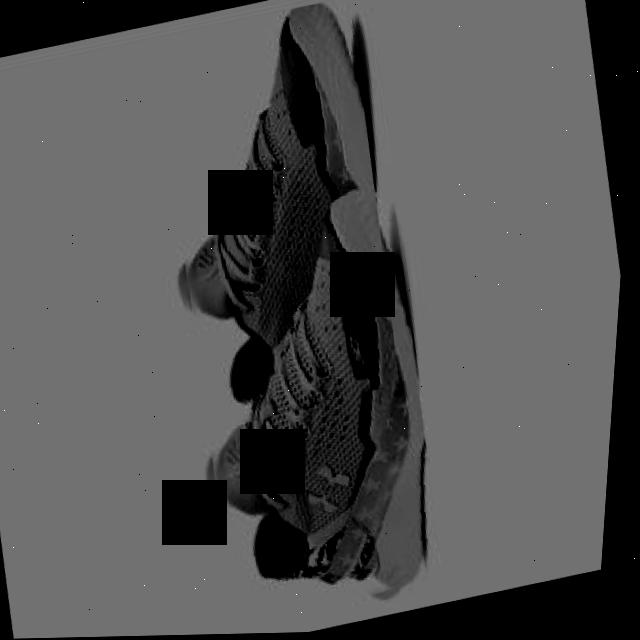shoe: (157, 189, 473, 635), (127, 0, 427, 437)
